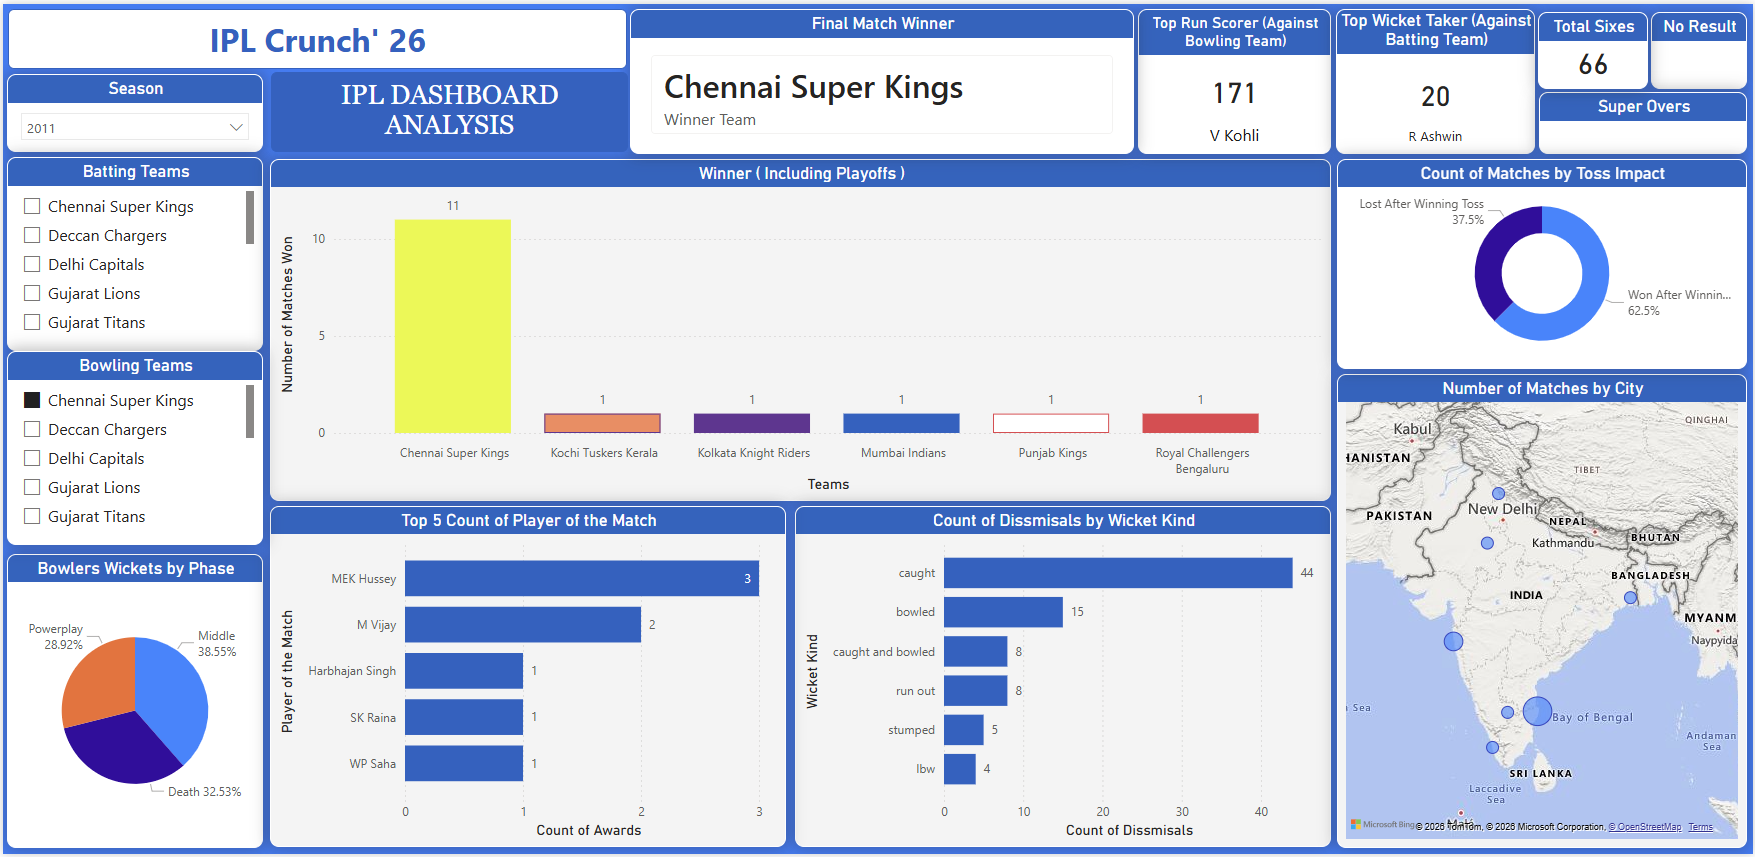

The page's visual inventory and layout, read from the dashboard file:
{"tool":"powerbi","page":{"name":"Page 1","canvas":[1750,850],"ordinal":0},"visuals":[{"type":"slicer","title":"Season","fields":{"Values":["Final Matches Dates.Seasons"]},"box":[4,70,256,78],"z":0},{"type":"slicer","title":"Teams","fields":{"Values":["Venue Data.Teams"]},"box":[4,154,256,394],"z":1000},{"type":"columnChart","title":"Winner ( Including Playoffs )","fields":{"Category":["ipl_cleaned.winner"],"Y":["Count(IPL Matches.match_id)"]},"box":[266.7,155,1061.7,342],"z":2000},{"type":"kpi","title":"No Result","fields":{"TrendLine":["ipl_cleaned.winner"],"Indicator":["Count(ipl_cleaned.date (bins))"]},"box":[1648,8,96,77],"z":3000},{"type":"kpi","title":"Top Run Scorer","fields":{"Indicator":["IPL Matches.Total Runs"],"TrendLine":["IPL Matches.batter"]},"box":[1135,5,193,145],"z":4000},{"type":"kpi","title":"Top Wicket Taker","fields":{"TrendLine":["IPL Matches.bowler"]},"box":[1333,5,199,145],"z":5000},{"type":"pieChart","fields":{"Category":["ipl_cleaned.phase"],"Y":["Sum(IPL Matches.is_bowler_wicket)"]},"box":[4,556,256,288],"z":6000},{"type":"barChart","fields":{"Category":["ipl_cleaned.wicket_kind"],"Y":["Count(ipl_cleaned.wicket_player_out)"]},"box":[791.7,501.7,536.7,341.7],"z":7000},{"type":"kpi","title":"Super Overs","fields":{"Indicator":["IPL Matches.Total Super Overs"],"TrendLine":["IPL Matches.is_super_over"]},"box":[1536,88,208,62],"z":8000},{"type":"barChart","title":"Top 5 Count of Player of the Match","fields":{"Y":["Count(ipl_cleaned.date (bins))"],"Category":["ipl_cleaned.player_of_match"]},"box":[266.7,501.7,516.7,341.7],"z":9000},{"type":"map","title":"Number of Matches by City","fields":{"Category":["ipl_cleaned.city"],"Size":["Count(ipl_cleaned.date (bins))"]},"box":[1334,370,410,474],"z":10000},{"type":"cardVisual","title":"Final Match Winner","fields":{"Data":["IPL Matches.Winner_Team"]},"box":[627,5,504,145],"z":11000},{"type":"donutChart","fields":{"Category":["IPL Matches.Toss_Impact"],"Y":["Count(IPL Matches.match_id)"]},"box":[1334,155,410,210],"z":12000},{"type":"textbox","box":[5,5,619,60],"z":13000},{"type":"textbox","box":[267.5,67.5,357.5,80],"z":14000},{"type":"kpi","title":"Total Sixes","fields":{"Indicator":["IPL Matches.Total Sixes"],"TrendLine":["IPL Matches.runs_batter"]},"box":[1535,8,110,77],"z":15000}]}

Visuals, with their boxes in screenshot pixels (x1, y1, x2, y2), scaled from the page's 1750x850 canvas onto the 1755x857 screenshot:
"Season" slicer: rect(4, 71, 261, 149)
"Teams" slicer: rect(4, 155, 261, 553)
"Winner ( Including Playoffs )" columnChart: rect(267, 156, 1332, 501)
"No Result" kpi: rect(1653, 8, 1749, 86)
"Top Run Scorer" kpi: rect(1138, 5, 1332, 151)
"Top Wicket Taker" kpi: rect(1337, 5, 1536, 151)
pieChart - ipl_cleaned.phase x Sum(IPL Matches.is_bowler_wicket): rect(4, 561, 261, 851)
barChart - ipl_cleaned.wicket_kind x Count(ipl_cleaned.wicket_player_out): rect(794, 506, 1332, 850)
"Super Overs" kpi: rect(1540, 89, 1749, 151)
"Top 5 Count of Player of the Match" barChart: rect(267, 506, 786, 850)
"Number of Matches by City" map: rect(1338, 373, 1749, 851)
"Final Match Winner" cardVisual: rect(629, 5, 1134, 151)
donutChart - IPL Matches.Toss_Impact x Count(IPL Matches.match_id): rect(1338, 156, 1749, 368)
textbox: rect(5, 5, 626, 66)
textbox: rect(268, 68, 627, 149)
"Total Sixes" kpi: rect(1539, 8, 1650, 86)
